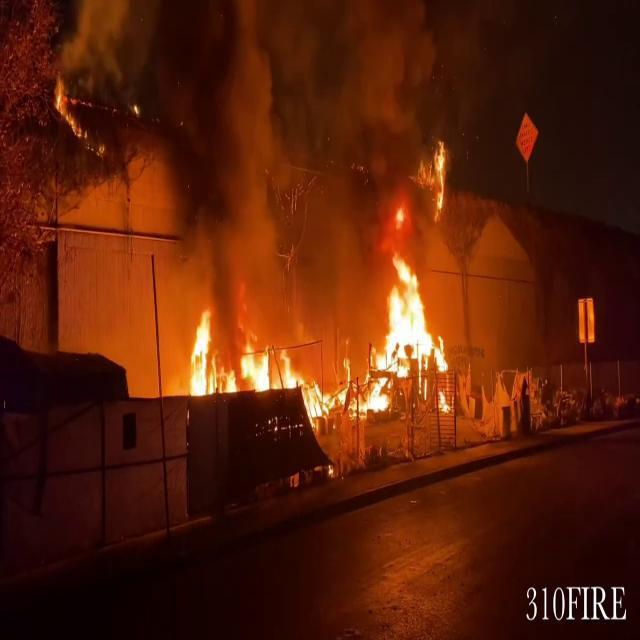Fire: (172, 258, 456, 428)
Smoke: (20, 0, 440, 309)
